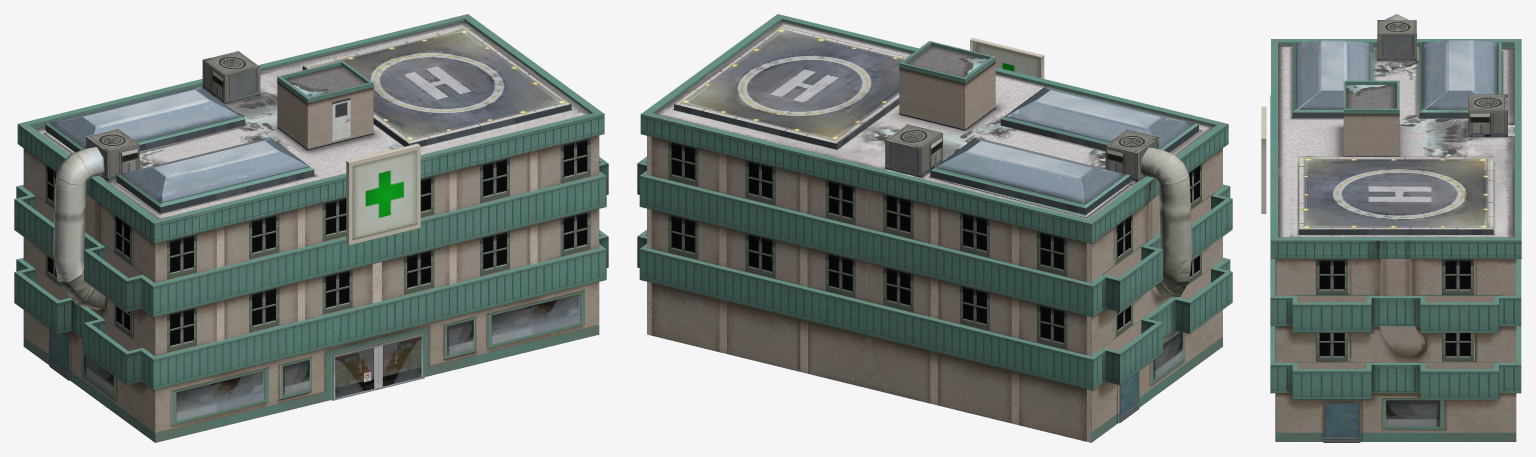
Rendered from LM_Clinic2.glb.
3 renders of one model, left to right at view 1: azimuth 30°, elevation 25°; view 2: azimuth 150°, elevation 25°; view 3: azimuth 270°, elevation 25°, orthographic. The views are drawn at different scales.
Visible parts, largest first — view 1: LM_Clinic2; view 2: LM_Clinic2; view 3: LM_Clinic2.
Boxes of the visible parts, <box> form: LM_Clinic2: <box>14,14,608,442</box>; LM_Clinic2: <box>637,14,1232,442</box>; LM_Clinic2: <box>1261,14,1521,442</box>.
Bounding box in the file's own units: 3758 × 1951 × 1857.
1 material, 1 textured.
